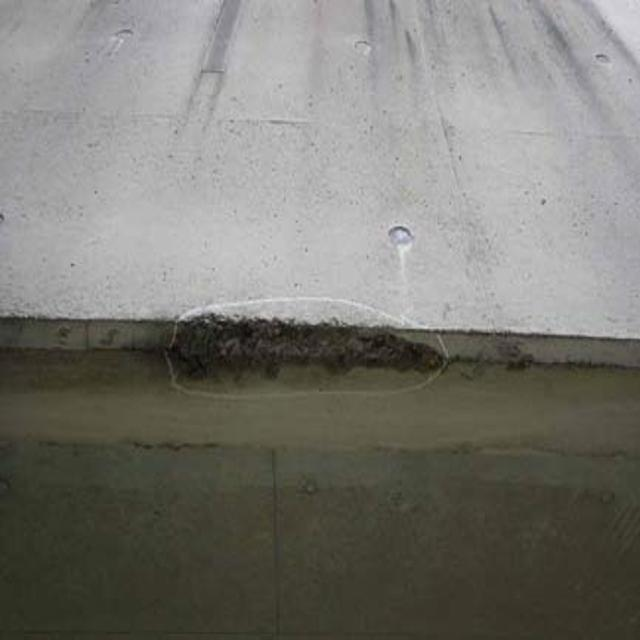spalling: (154, 297, 459, 404)
